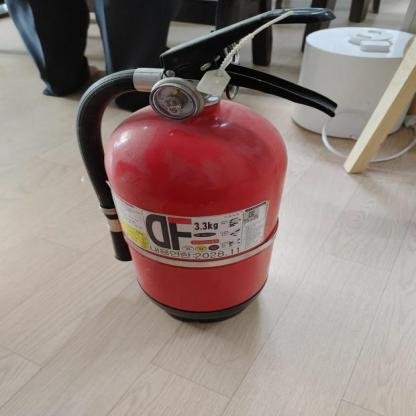Fire Extinguisher: (67, 8, 357, 334)
